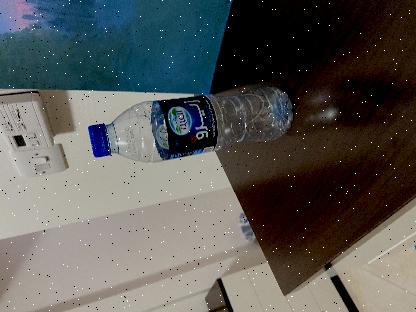Plastic Bottle: (88, 86, 293, 162)
